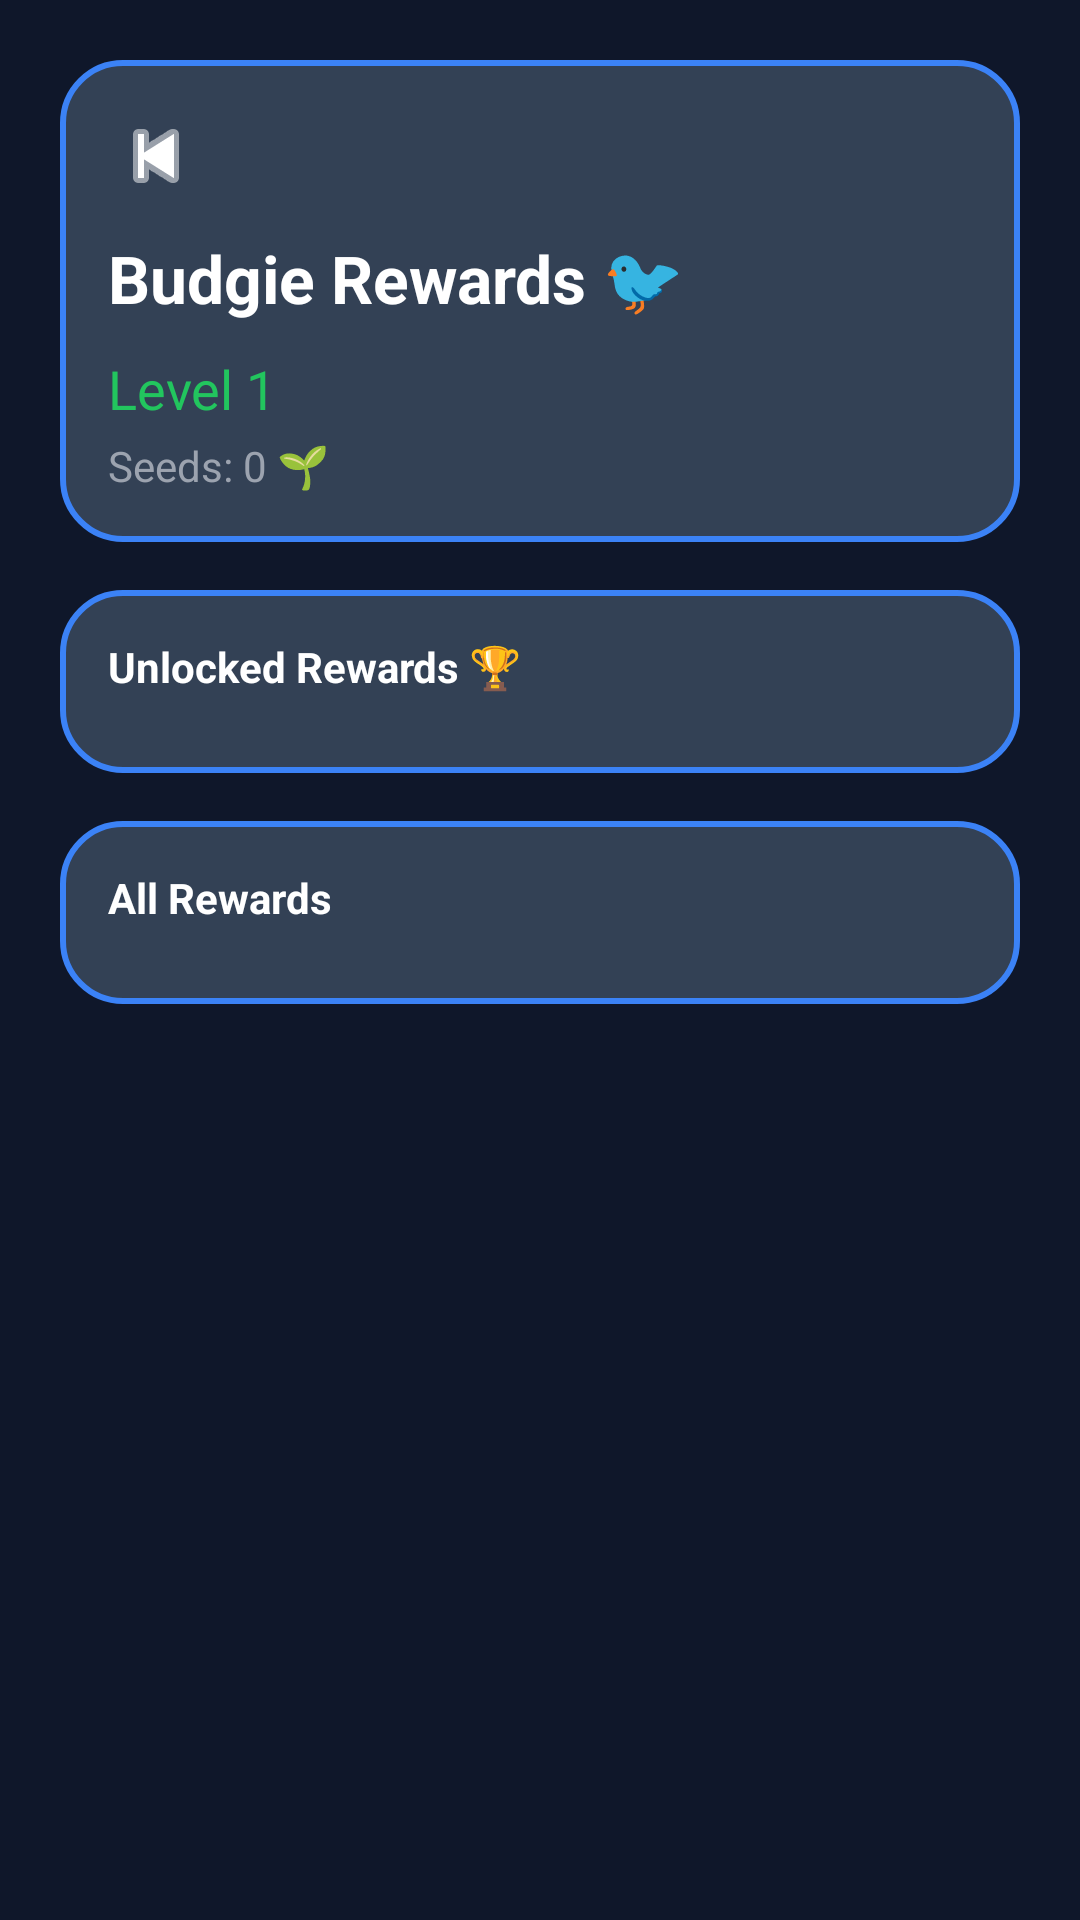

Where icons sit on this 1080w x 1920h app screen, as (x1, y1, x2, y2):
previous: (133, 129, 179, 183)
